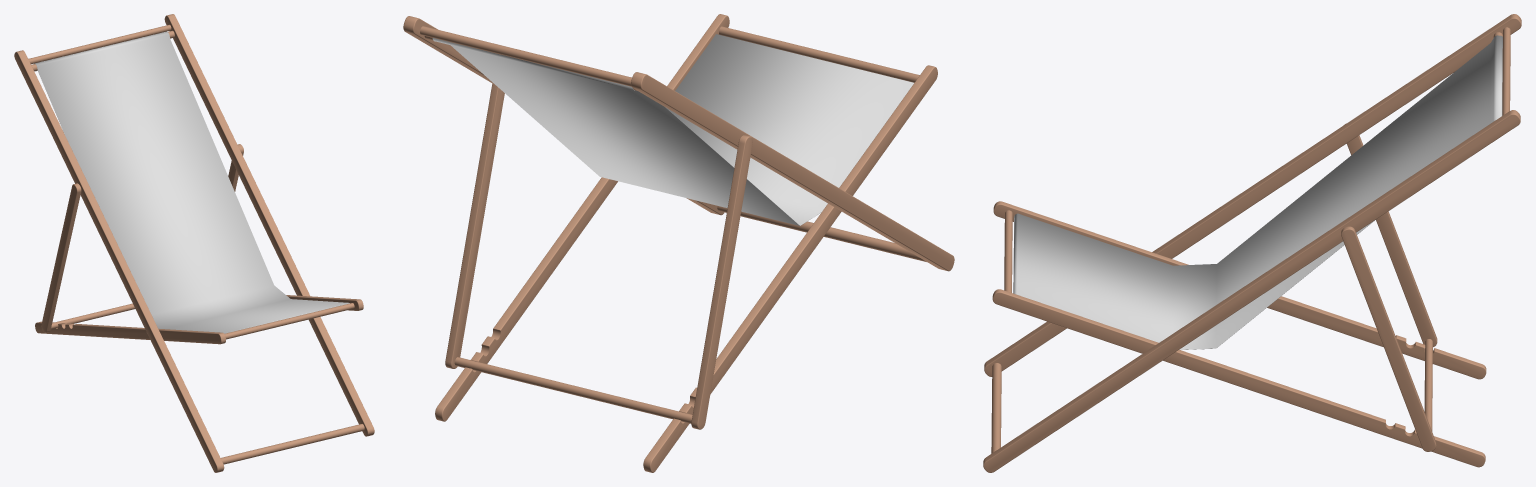
File: beach_chair.gltf
3 views of the same model, side by side, from view 1: azimuth 30°, elevation 25°; view 2: azimuth 150°, elevation 25°; view 3: azimuth 270°, elevation 25° (orthographic). The views are drawn at different scales.
Visible parts, largest first — view 1: Plane.010, Plane.008; view 2: Plane.010, Plane.008; view 3: Plane.008, Plane.010.
Part boxes in pixels (<box>): Plane.010: <box>34,31,349,333</box>; Plane.008: <box>14,14,374,472</box>; Plane.010: <box>432,34,913,225</box>; Plane.008: <box>403,14,954,472</box>; Plane.008: <box>983,14,1521,472</box>; Plane.010: <box>1013,35,1502,349</box>.
Bounding box in the file's own units: 1.27 × 2 × 2.71.
